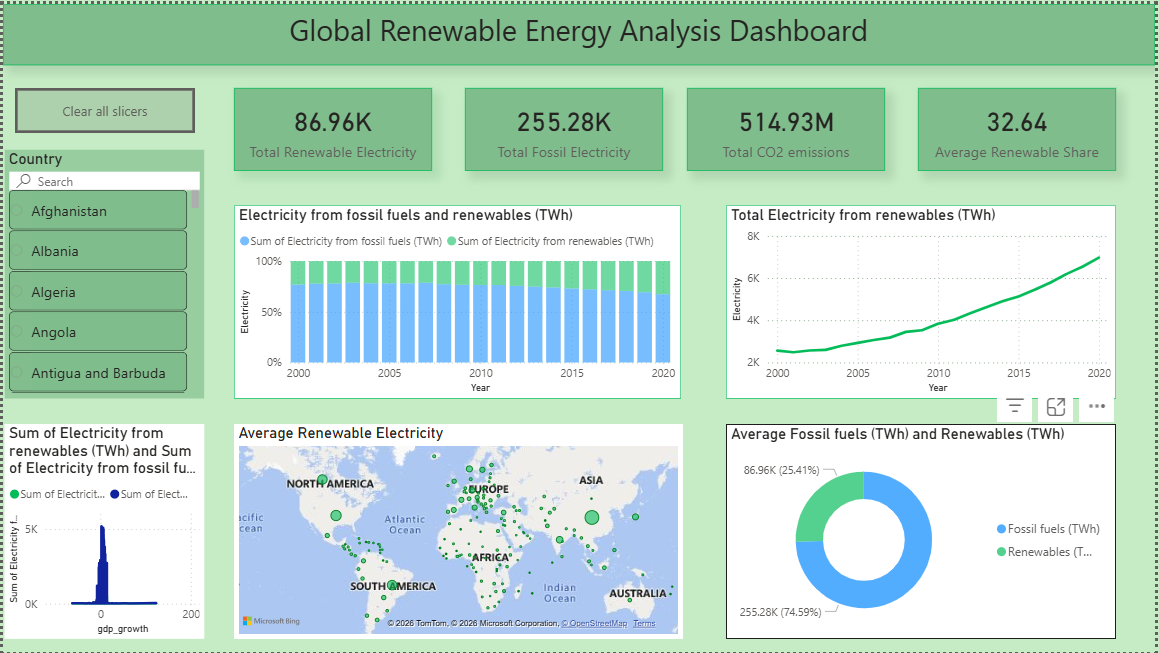

The dashboard page shown, as its layout file describes it:
{"tool":"powerbi","page":{"name":"Page 1","canvas":[1280,720],"ordinal":0},"visuals":[{"type":"card","fields":{"Values":["global-data-on-sustainable-energy (1).Total Renewable Electricity"]},"box":[256,94,220,92],"z":0},{"type":"card","fields":{"Values":["global-data-on-sustainable-energy (1).Total Fossil Electricity"]},"box":[514,94,220,92],"z":1000},{"type":"card","fields":{"Values":["global-data-on-sustainable-energy (1).Average Renewable Share"]},"box":[1016,94,220,92],"z":2000},{"type":"card","fields":{"Values":["global-data-on-sustainable-energy (1).Total CO2 emissions"]},"box":[760,94,220,92],"z":3000},{"type":"lineChart","title":"Total Electricity from renewables (TWh)","fields":{"Category":["global-data-on-sustainable-energy (1).Year"],"Y":["Sum(global-data-on-sustainable-energy (1).Electricity from renewables (TWh))"]},"box":[803.3,223.3,433.3,215],"z":4000},{"type":"hundredPercentStackedColumnChart","title":"Electricity from fossil fuels and renewables (TWh) ","fields":{"Category":["global-data-on-sustainable-energy (1).Year"],"Y":["Sum(global-data-on-sustainable-energy (1).Electricity from fossil fuels (TWh))","Sum(global-data-on-sustainable-energy (1).Electricity from renewables (TWh))"]},"box":[256.7,223.3,496.7,215],"z":5000},{"type":"textbox","box":[0,0,1280,68],"z":6000},{"type":"listSlicer","title":"Country","fields":{"Values":["global-data-on-sustainable-energy (1).Country"]},"box":[1.7,161.7,221.7,276.7],"z":7000},{"type":"map","title":"Average Renewable Electricity","fields":{"Category":["global-data-on-sustainable-energy (1).Country"],"Y":["Avg(global-data-on-sustainable-energy (1).Latitude)"],"X":["Avg(global-data-on-sustainable-energy (1).Longitude)"],"Size":["Sum(global-data-on-sustainable-energy (1).Electricity from renewables (TWh))"]},"box":[256.7,466.7,498.3,238.3],"z":8000},{"type":"donutChart","title":"Average Fossil fuels (TWh) and Renewables (TWh)","fields":{"Y":["Sum(global-data-on-sustainable-energy (1).Electricity from fossil fuels (TWh))","Sum(global-data-on-sustainable-energy (1).Electricity from renewables (TWh))"]},"box":[803.3,466.7,433.3,238.3],"z":9000},{"type":"areaChart","fields":{"Category":["global-data-on-sustainable-energy (1).gdp_growth"],"Y":["Sum(global-data-on-sustainable-energy (1).Electricity from renewables (TWh))","Sum(global-data-on-sustainable-energy (1).Electricity from fossil fuels (TWh))"]},"box":[1.7,466.7,221.7,238.3],"z":10000},{"type":"actionButton","box":[13.3,93.3,200,50],"z":11000}]}

Visuals, with their boxes in screenshot pixels (x1, y1, x2, y2), scaled from the page's 1280x720 canvas onto the 1159x653 screenshot:
card - global-data-on-sustainable-energy (1).Total Renewable Electricity: [left=232, top=85, right=431, bottom=169]
card - global-data-on-sustainable-energy (1).Total Fossil Electricity: [left=465, top=85, right=665, bottom=169]
card - global-data-on-sustainable-energy (1).Average Renewable Share: [left=920, top=85, right=1119, bottom=169]
card - global-data-on-sustainable-energy (1).Total CO2 emissions: [left=688, top=85, right=887, bottom=169]
"Total Electricity from renewables (TWh)" lineChart: [left=727, top=203, right=1120, bottom=398]
"Electricity from fossil fuels and renewables (TWh) " hundredPercentStackedColumnChart: [left=232, top=203, right=682, bottom=398]
textbox: [left=0, top=0, right=1158, bottom=62]
"Country" listSlicer: [left=2, top=147, right=202, bottom=398]
"Average Renewable Electricity" map: [left=232, top=423, right=684, bottom=639]
"Average Fossil fuels (TWh) and Renewables (TWh)" donutChart: [left=727, top=423, right=1120, bottom=639]
areaChart - global-data-on-sustainable-energy (1).gdp_growth x Sum(global-data-on-sustainable-energy (1).Electricity from renewables (TWh)): [left=2, top=423, right=202, bottom=639]
actionButton: [left=12, top=85, right=193, bottom=130]
